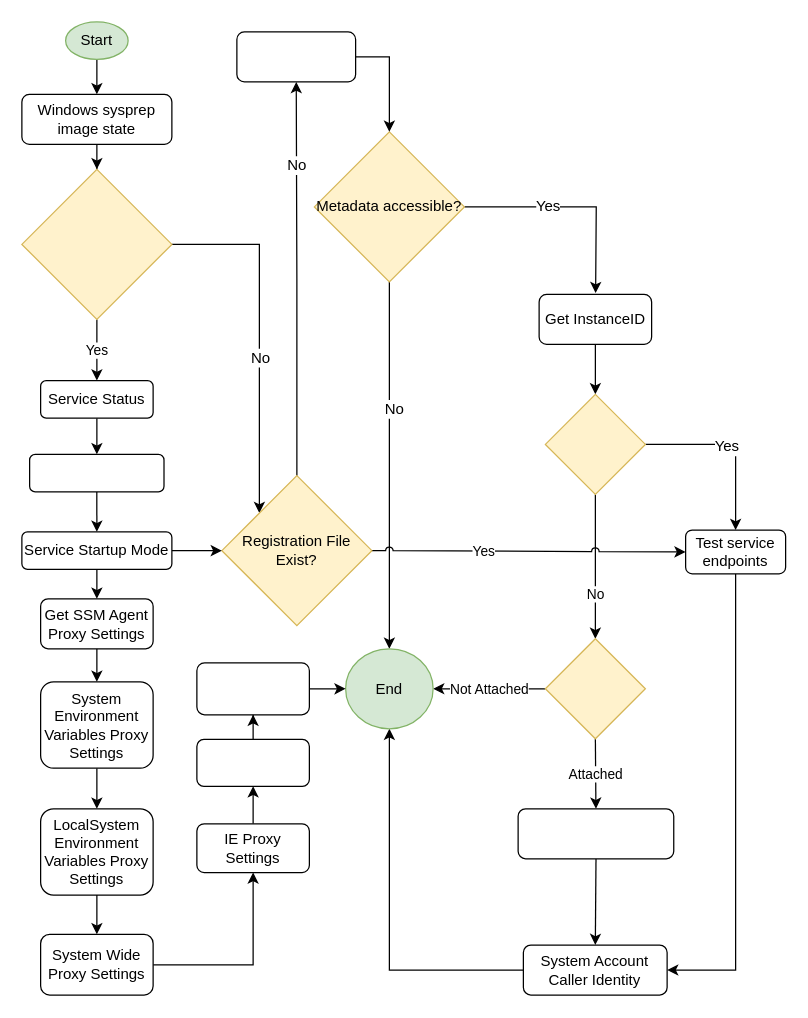
The diagram is 808 pixels wide and 1018 high, and some of its shapes have lost their labels. Here are the shapes that lost their labels. From the top down, the centre of each, then its label:
pixel 296 56: Generate Metadata Token
pixel 96 243: SSM service available?
pixel 594 443: Get Region
pixel 96 472: Service Account
pixel 252 688: Check Session Manager plugin
pixel 594 688: Get IAM Instance Profile
pixel 252 762: Check SSM Agent version
pixel 595 833: IAM Instance Profile Credential last update
